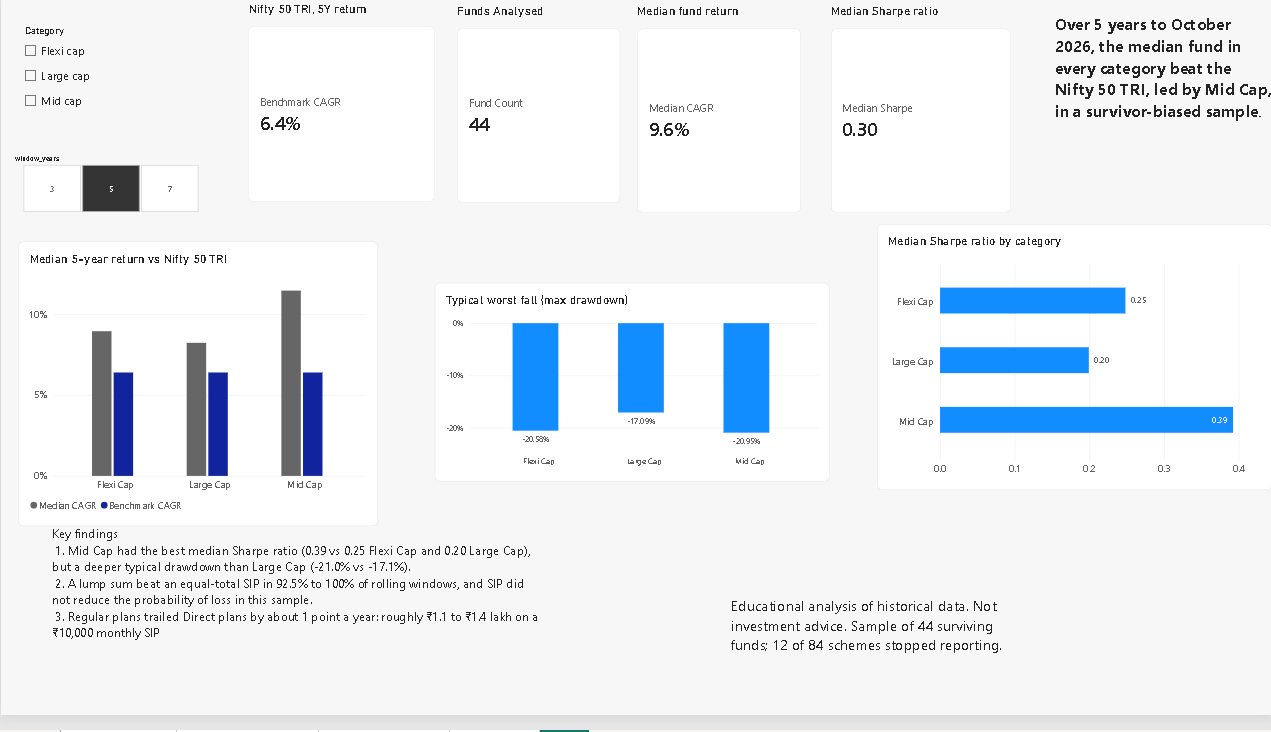

The page's visual inventory and layout, read from the dashboard file:
{"tool":"powerbi","page":{"name":"Overview","canvas":[1920,1080],"ordinal":0},"visuals":[{"type":"slicer","fields":{"Values":["dim_category.Category"]},"box":[27.8,38.9,238.9,163],"z":0},{"type":"slicer","fields":{"Values":["fact_metrics.window_years"]},"box":[13,233.3,303.7,88.9],"z":1000},{"type":"cardVisual","title":"Funds Analysed","fields":{"Data":["fact_metrics.Fund Count"]},"box":[688.7,8.3,246.3,300],"z":2000},{"type":"cardVisual","title":"Nifty 50 TRI, 5Y return","fields":{"Data":["fact_metrics.Benchmark CAGR"]},"box":[373.6,4.2,281.5,303.7],"z":3000},{"type":"cardVisual","title":"Median fund return","fields":{"Data":["fact_metrics.Median CAGR"]},"box":[960.4,7.5,247.2,315.1],"z":4000},{"type":"cardVisual","title":"Median Sharpe ratio","fields":{"Data":["fact_metrics.Median Sharpe"]},"box":[1252.8,7.5,271.7,315.1],"z":5000},{"type":"clusteredColumnChart","title":"Median 5-year return vs Nifty 50 TRI","fields":{"Category":["fact_metrics.category"],"Y":["fact_metrics.Median CAGR","fact_metrics.Benchmark CAGR"]},"box":[27.1,365.2,542.6,429.6],"z":6000},{"type":"clusteredBarChart","title":"Median Sharpe ratio by category","fields":{"Category":["fact_metrics.category"],"Y":["fact_metrics.Median Sharpe"]},"box":[1323.1,340.2,596.3,401.9],"z":7000},{"type":"clusteredColumnChart","title":"Typical worst fall (max drawdown)","fields":{"Category":["fact_metrics.category"],"Y":["fact_metrics.Median Max Drawdown"]},"box":[655.3,427.8,596.3,300],"z":8000},{"type":"textbox","box":[1590.3,20.9,329.7,288],"z":9000},{"type":"textbox","box":[77.2,795.1,734.6,285.9],"z":10000},{"type":"textbox","box":[1101.9,899.5,448.7,181.6],"z":11000}]}

Visuals, with their boxes in screenshot pixels (x1, y1, x2, y2), scaled from the page's 1920x1080 canvas onto the 1271x732 screenshot:
slicer - dim_category.Category: <bbox>18, 26, 177, 137</bbox>
slicer - fact_metrics.window_years: <bbox>9, 158, 210, 218</bbox>
"Funds Analysed" cardVisual: <bbox>456, 6, 619, 209</bbox>
"Nifty 50 TRI, 5Y return" cardVisual: <bbox>247, 3, 434, 209</bbox>
"Median fund return" cardVisual: <bbox>636, 5, 799, 219</bbox>
"Median Sharpe ratio" cardVisual: <bbox>829, 5, 1009, 219</bbox>
"Median 5-year return vs Nifty 50 TRI" clusteredColumnChart: <bbox>18, 248, 377, 539</bbox>
"Median Sharpe ratio by category" clusteredBarChart: <bbox>876, 231, 1270, 503</bbox>
"Typical worst fall (max drawdown)" clusteredColumnChart: <bbox>434, 290, 829, 493</bbox>
textbox: <bbox>1053, 14, 1270, 209</bbox>
textbox: <bbox>51, 539, 537, 731</bbox>
textbox: <bbox>729, 610, 1026, 731</bbox>
